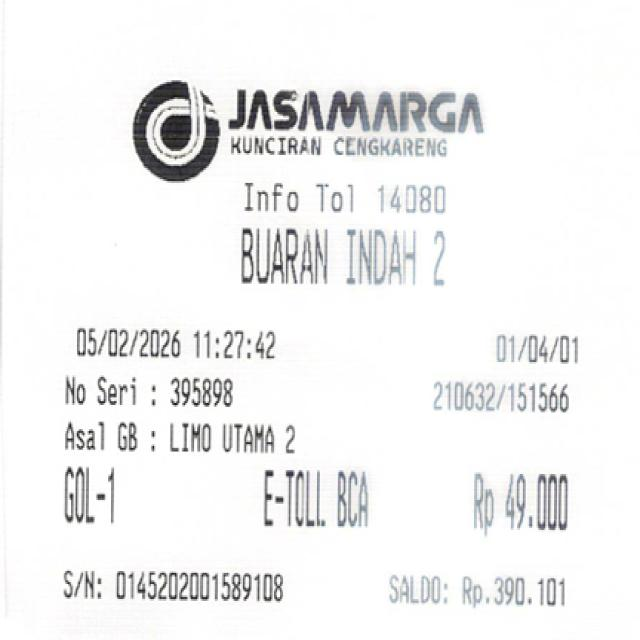date: (69, 314, 285, 368)
store: (226, 86, 514, 166)
total: (462, 462, 574, 535)
